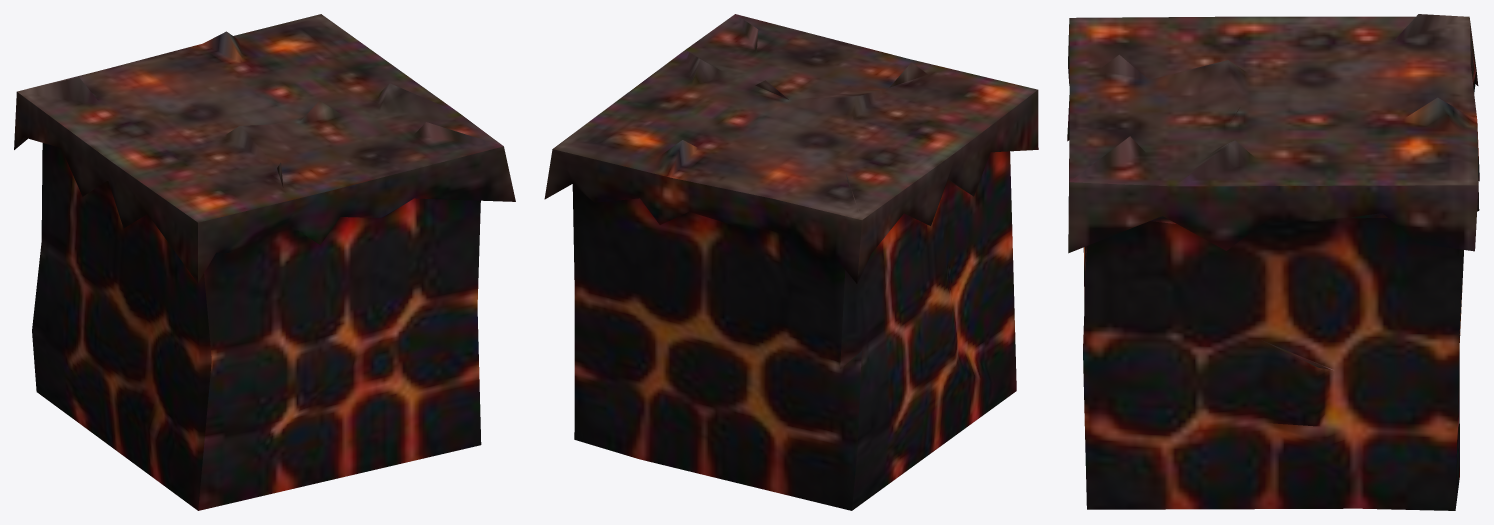
Rendered from b_braises_mur_2_lo.glb.
3 views of the same model, side by side, from view 1: azimuth 30°, elevation 25°; view 2: azimuth 150°, elevation 25°; view 3: azimuth 270°, elevation 25° (orthographic). The views are drawn at different scales.
Visible parts, largest first — view 1: geometry_0; view 2: geometry_0; view 3: geometry_0.
Part boxes in pixels (x1,y1,x2,y2): geometry_0: (14,14,515,510); geometry_0: (544,14,1038,510); geometry_0: (1067,14,1479,510).
Size of the model in its own units: 1 by 0.9596 by 0.995.
Materials: 1 (1 with a texture image).
